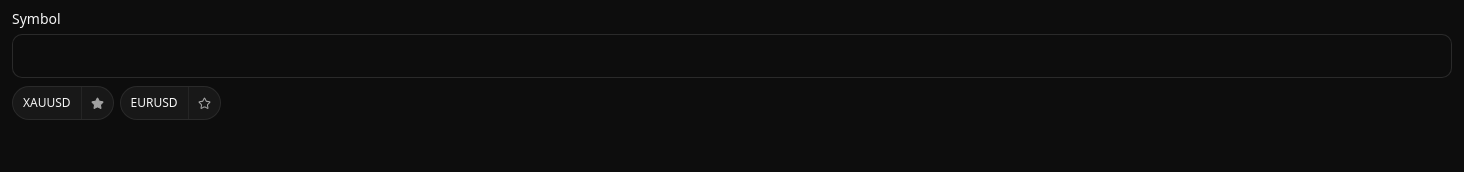
Test case: TradeQuickSelectField › fills the value when a favorite/suggestion/recent chip is clicked
Click the button "EURUSD".
click(154, 103)  # box 121,87 -> 188,119
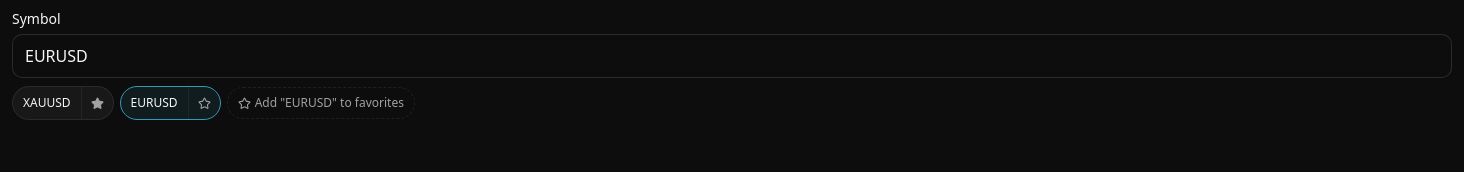
Check: the field labelled "Symbol" holds "EURUSD", box 12,34 -> 1452,78
